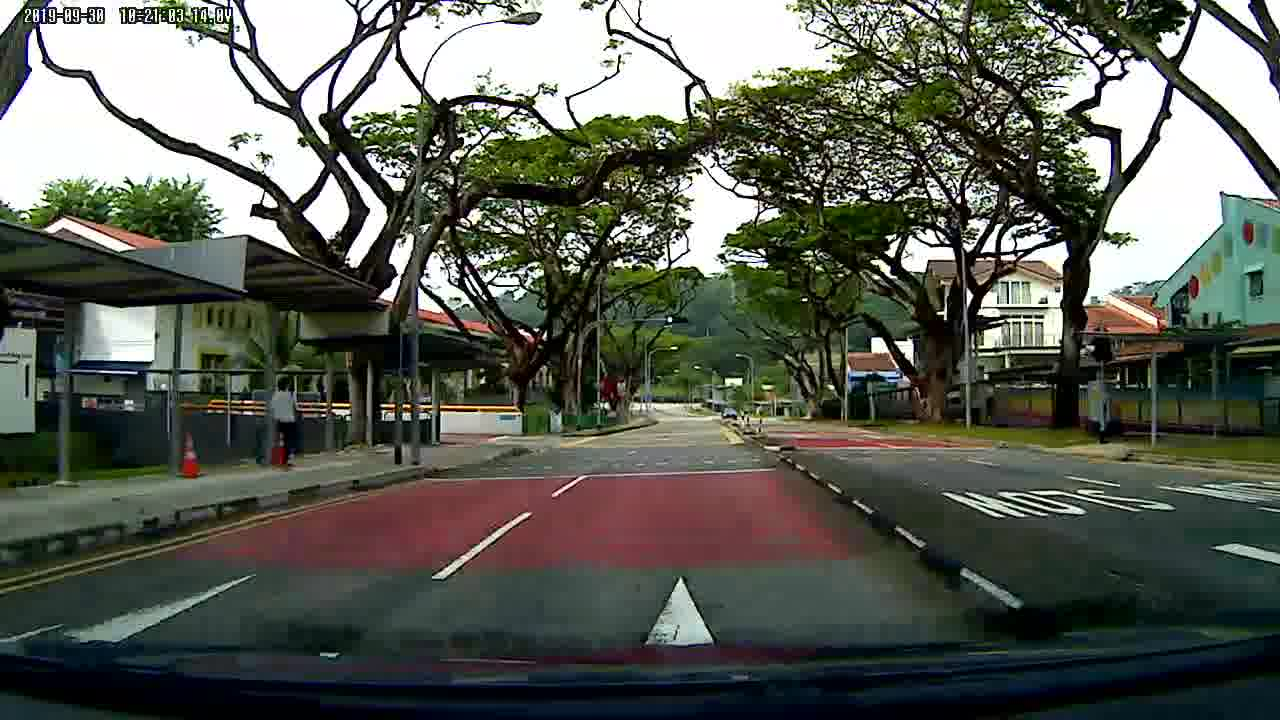car: (718, 405, 740, 422)
